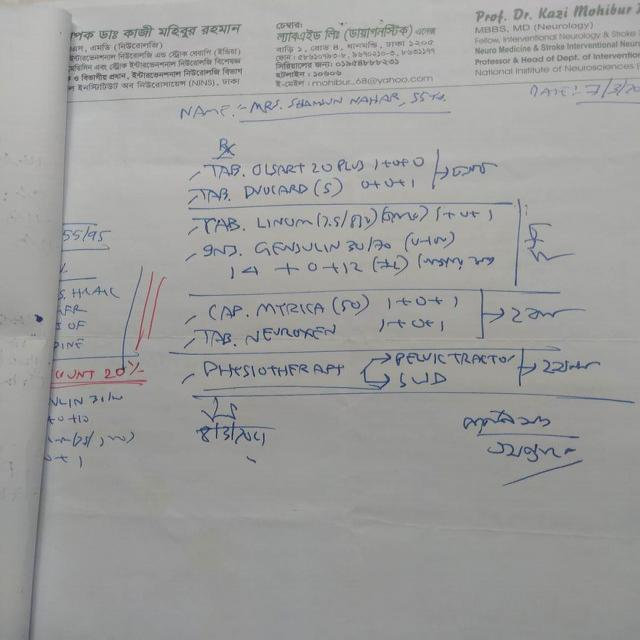Duocard: (240, 180, 319, 203)
Gensulin: (250, 236, 347, 260)
Lino-M: (249, 211, 320, 235)
Myrica: (249, 296, 329, 320)
Neuroxen: (243, 325, 343, 349)
Olsart: (246, 159, 309, 179)
